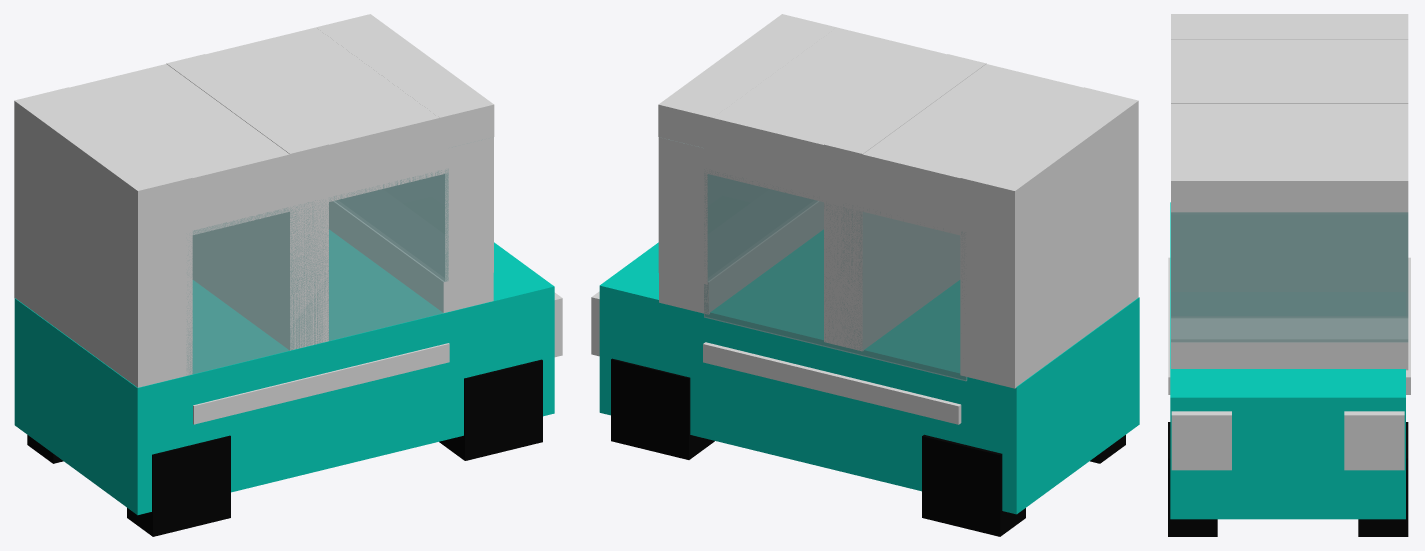
File: Hatchback.fbx
3 views of the same model, side by side, from view 1: azimuth 30°, elevation 25°; view 2: azimuth 150°, elevation 25°; view 3: azimuth 270°, elevation 25° (orthographic). The views are drawn at different scales.
Parts seen in each view (by area): view 1: pCube5, pCube8, pCube10, pCube13, pCube14, pCube12, pCube11, pCube6, pCube7, pCube9, pCube17; view 2: pCube5, pCube8, pCube10, pCube13, pCube14, pCube12, pCube11, pCube3, pCube2, pCube17, pCube9; view 3: pCube12, pCube5, pCube13, pCube10, pCube11, pCube9, pCube8, pCube14, pCube16, pCube15, pCube2, pCube7 (+1 smaller).
Part boxes in pixels (x1,y1,x2,y2): pCube5: [14, 230, 554, 515]; pCube8: [14, 87, 192, 387]; pCube10: [69, 27, 448, 234]; pCube13: [186, 168, 448, 375]; pCube14: [166, 54, 328, 350]; pCube12: [336, 137, 493, 281]; pCube11: [316, 14, 494, 149]; pCube6: [127, 435, 230, 536]; pCube7: [439, 359, 542, 460]; pCube9: [329, 201, 493, 312]; pCube17: [193, 343, 449, 424]; pCube5: [599, 230, 1139, 514]; pCube8: [960, 87, 1138, 388]; pCube10: [704, 27, 1082, 235]; pCube13: [704, 169, 967, 381]; pCube14: [824, 54, 986, 351]; pCube12: [658, 137, 816, 284]; pCube11: [658, 14, 836, 149]; pCube3: [922, 434, 1025, 536]; pCube2: [611, 358, 714, 459]; pCube17: [703, 342, 961, 424]; pCube9: [659, 201, 823, 314]; pCube12: [1171, 212, 1408, 342]; pCube5: [1170, 202, 1405, 519]; pCube13: [1171, 213, 1407, 317]; pCube10: [1171, 40, 1408, 155]; pCube11: [1171, 155, 1408, 212]; pCube9: [1171, 318, 1408, 370]; pCube8: [1171, 14, 1408, 39]; pCube14: [1171, 85, 1408, 103]; pCube16: [1344, 411, 1404, 470]; pCube15: [1171, 411, 1231, 470]; pCube2: [1358, 422, 1408, 536]; pCube7: [1168, 422, 1217, 536].
Size of the model in its own units: 7.79 by 6.09 by 4.01.
